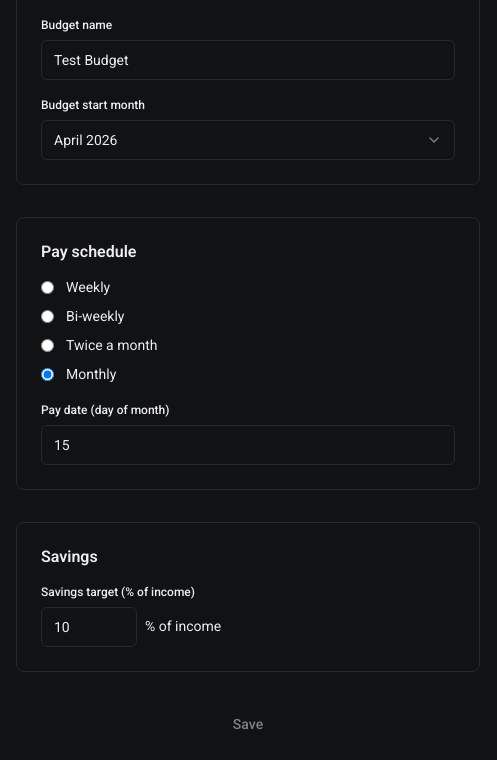
Test: SettingsPage › changing Budget Name enables Save button
The width and height of the screenshot is (497, 760).
(page scrolled)
Expected: the button with test id "save-settings-button" is disabled, 16,704 -> 480,744
Replace the text in the field with test id "budget-name-input" with "Updated Budget": (248,60) 41,40 -> 455,80
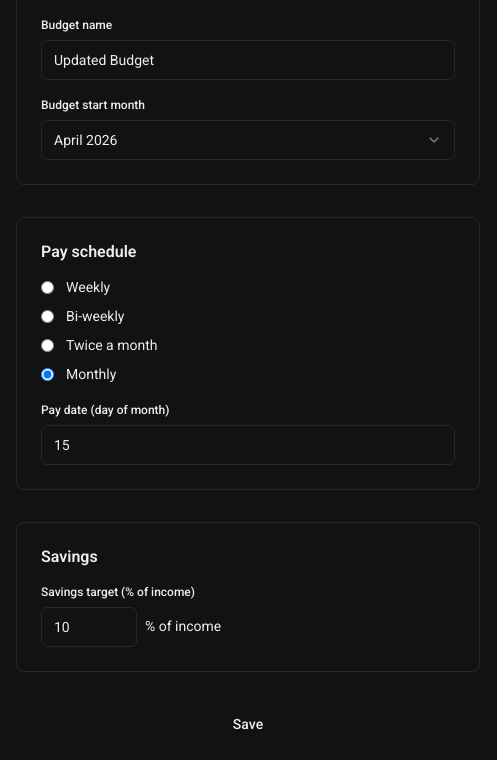
Now the button with test id "save-settings-button" is enabled, box 16,704 -> 480,744
